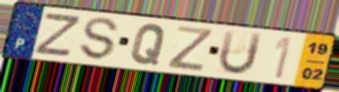1: (273, 35, 294, 81)
Q: (129, 22, 169, 67)
S: (79, 16, 121, 62)
U: (216, 29, 265, 77)
Z: (164, 24, 215, 73), (31, 13, 84, 59)
